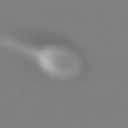normal: (1, 27, 36, 62)
